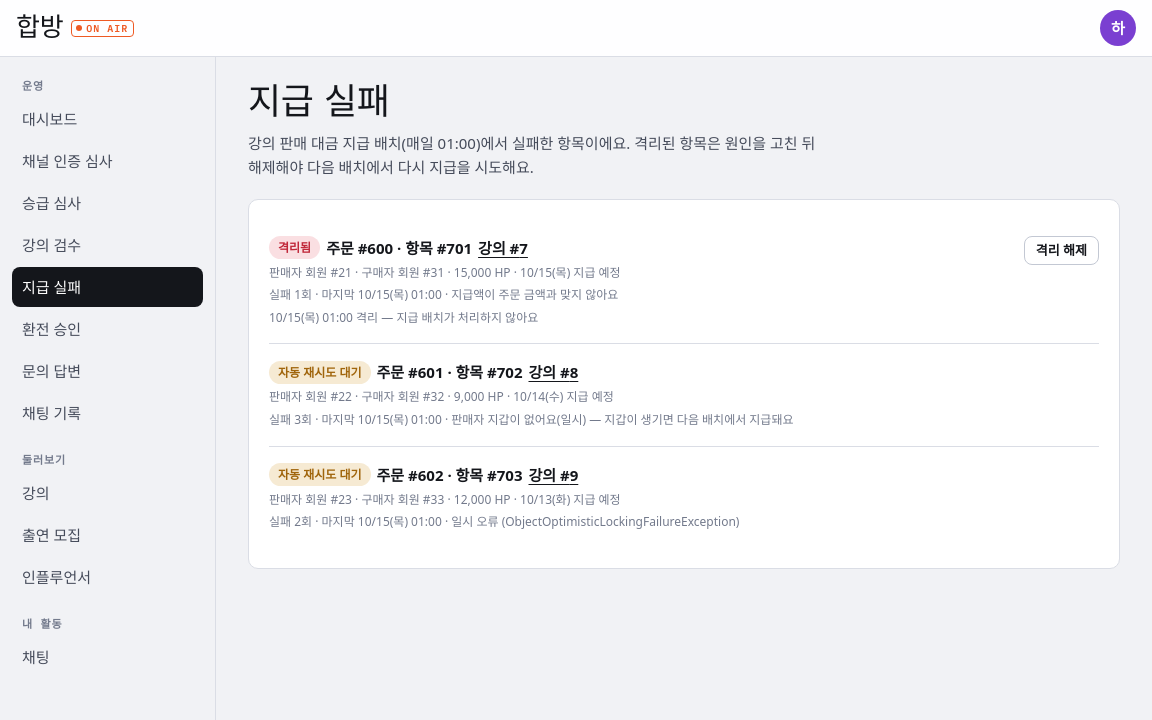
관리자 지급 실패 › 격리를 해제하면 안내 후 목록을 다시 불러와 자동 재시도 대기로 바뀐다
Step 1. Click the button "격리 해제" → (1061,250), box [1024,236,1099,265]
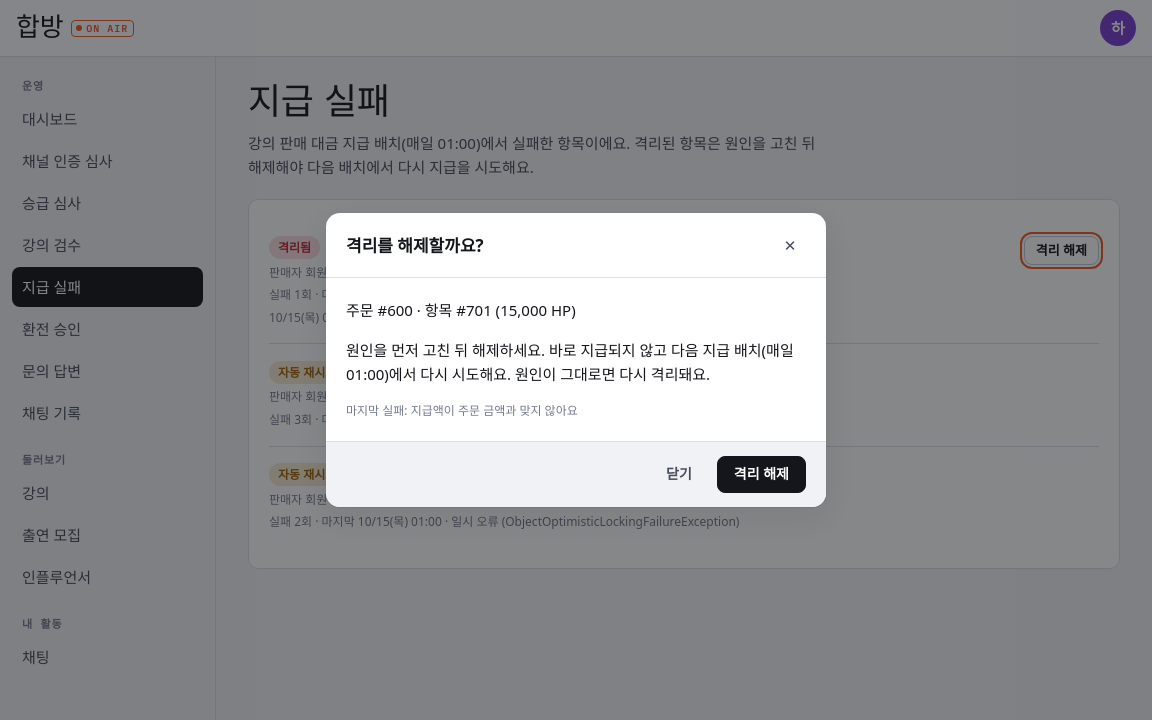
Check: the text "다음 지급 배치(매일 01:00)" is shown, box [346,340,794,384]
Step 2. Click the button "격리 해제" → (761,474), box [717,456,806,493]
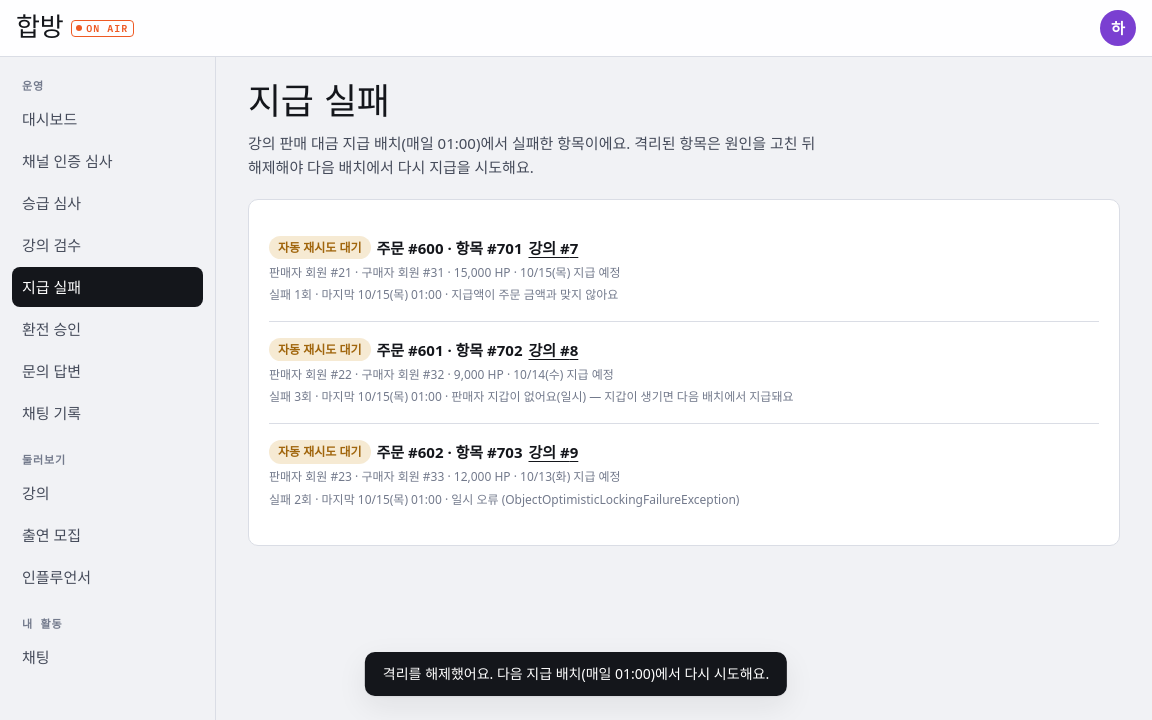
Check: the text "격리를 해제했어요. 다음 지급 배치(매일 01:00)에서 다시 시도해요." is shown, box [365,652,787,696]
Check: the dialog is gone
Check: the text "자동 재시도 대기" in the row of "600" is shown, box [278,239,362,256]
